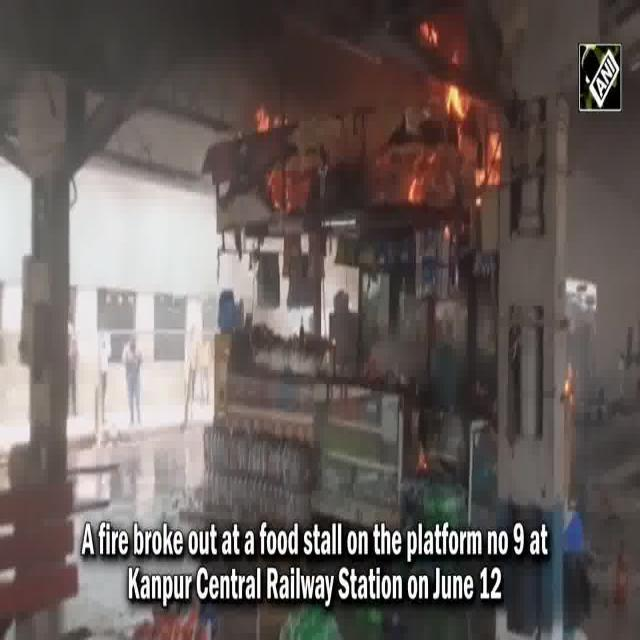Fire: (421, 82, 489, 188), (238, 104, 304, 184)
